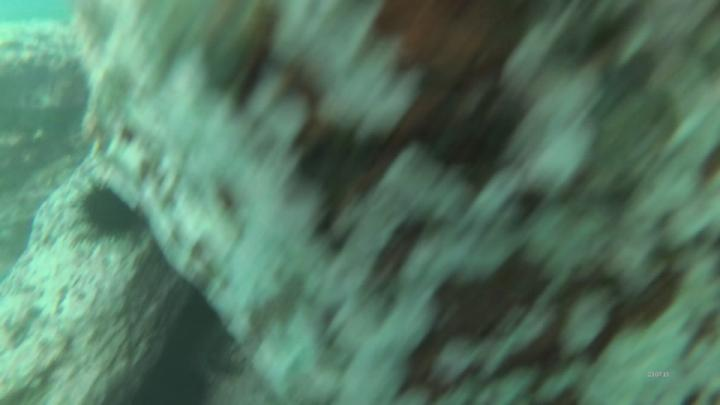echinus: (84, 187, 141, 242)
